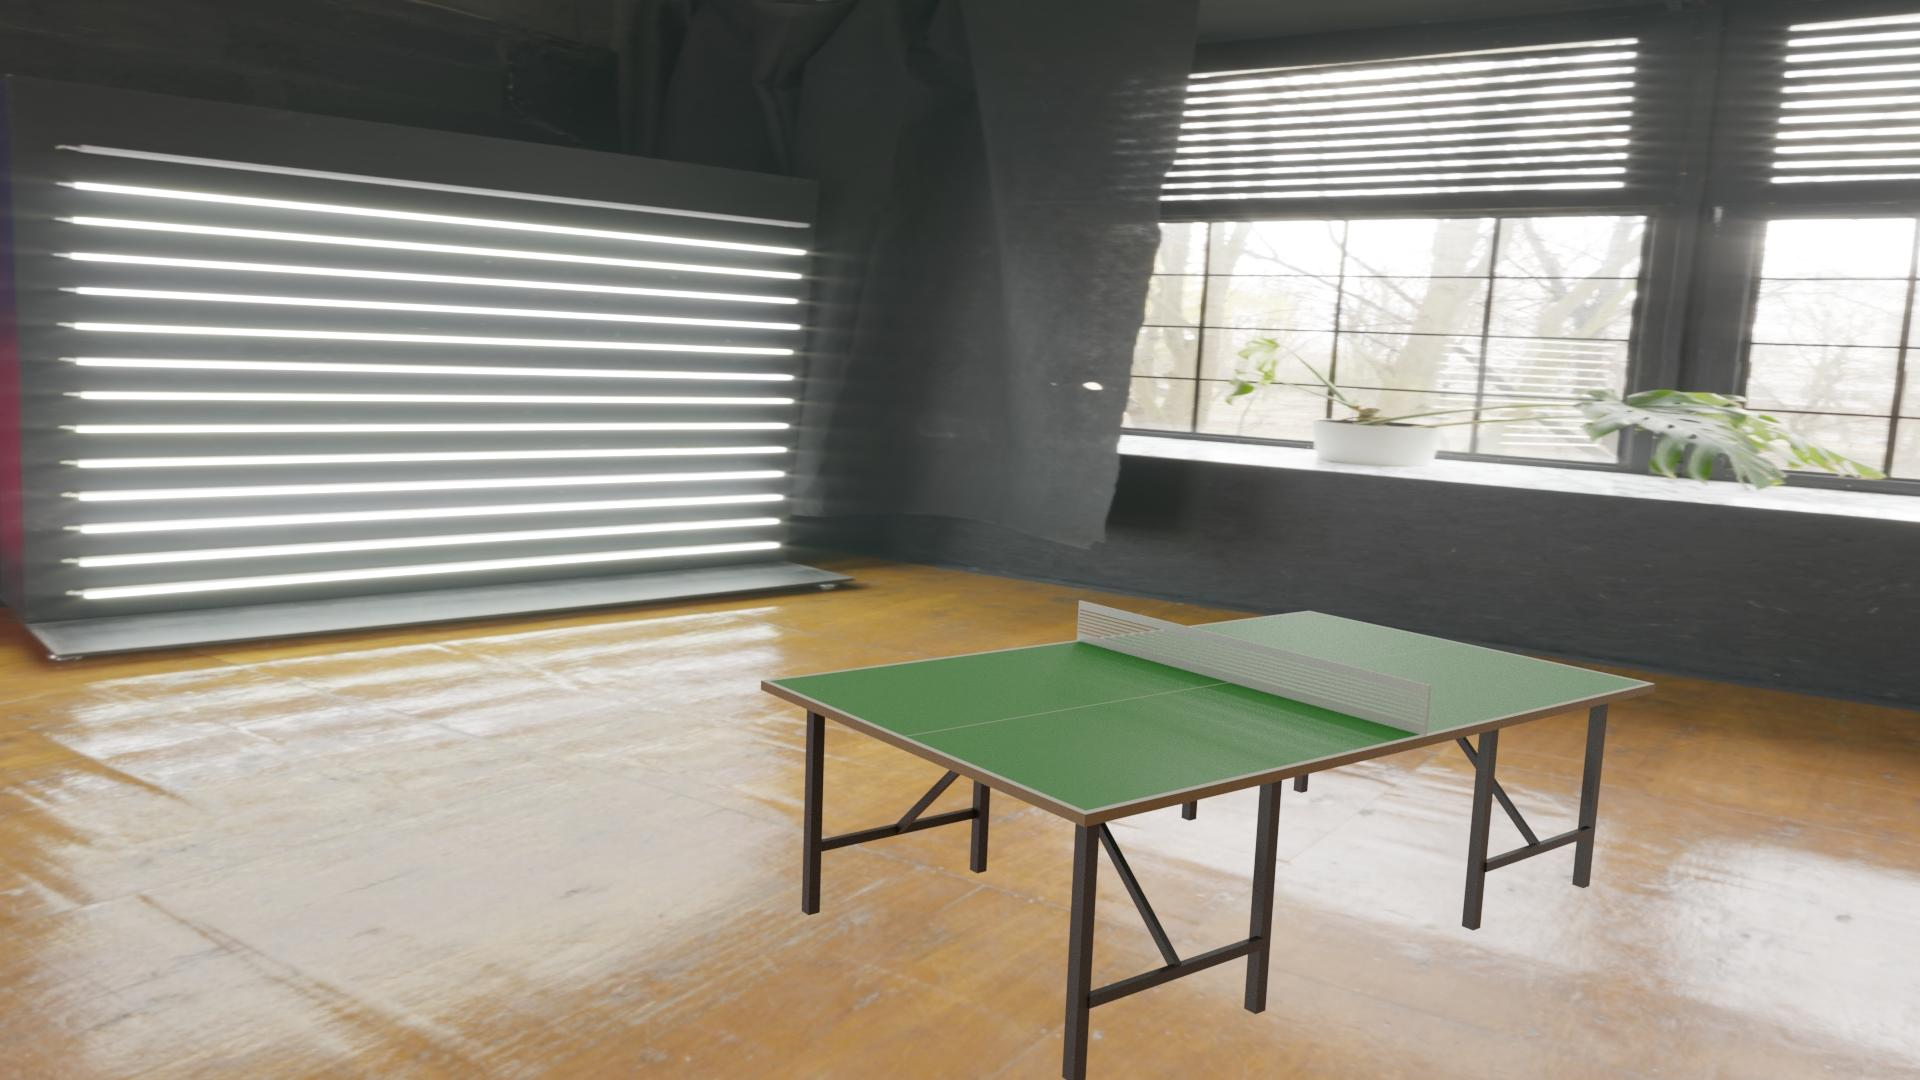table: (769, 612, 1647, 811)
